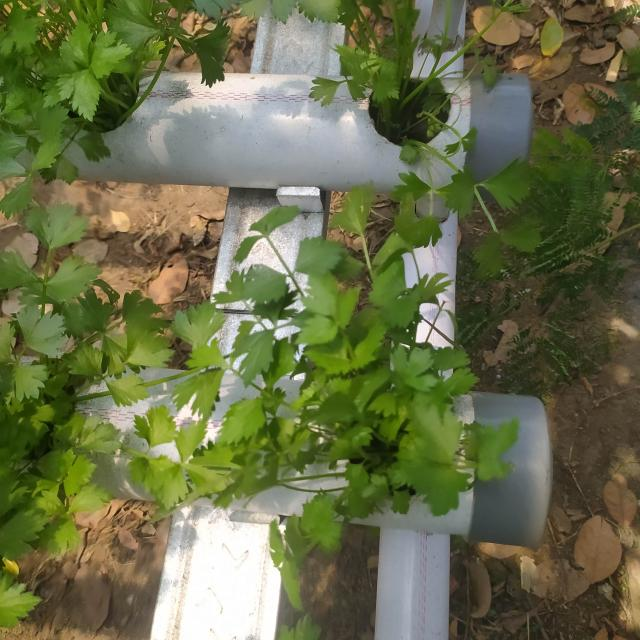Wet Waste: (182, 193, 580, 501)
